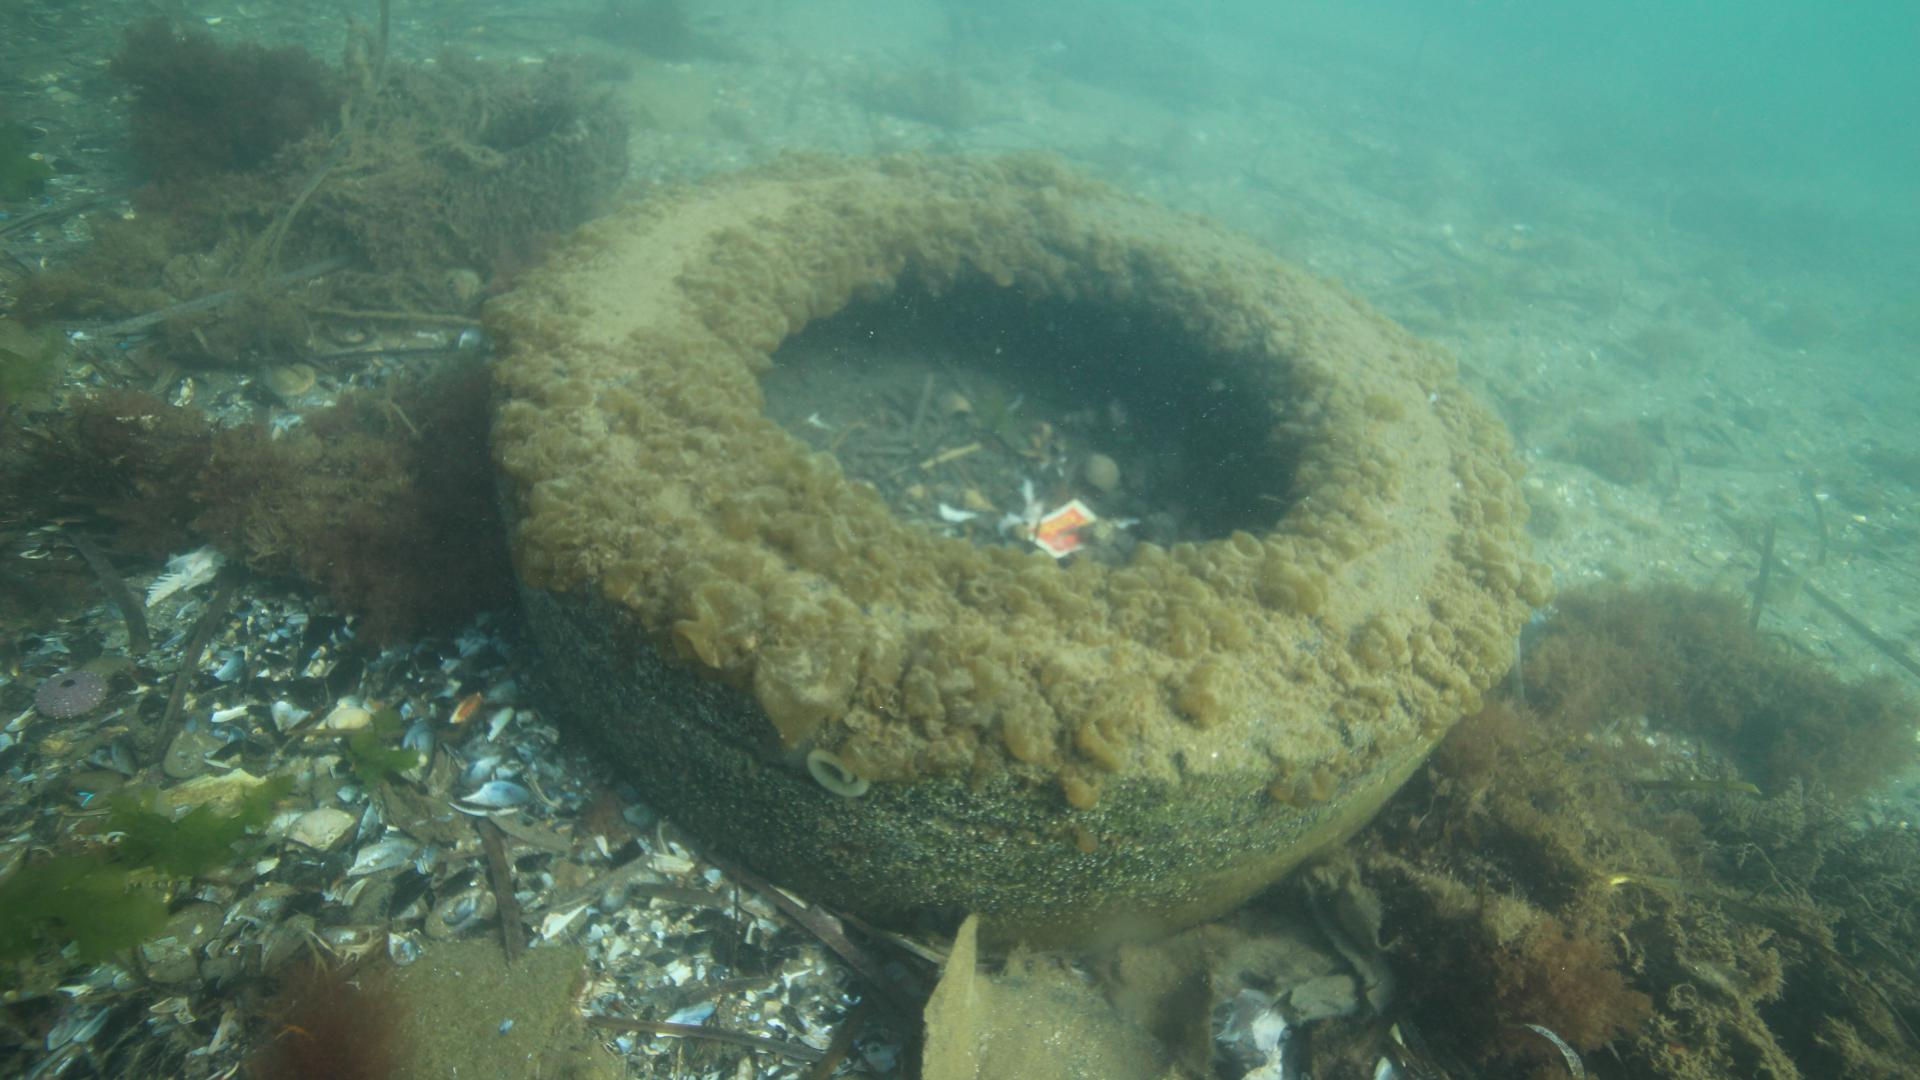tire: (510, 164, 1515, 947)
